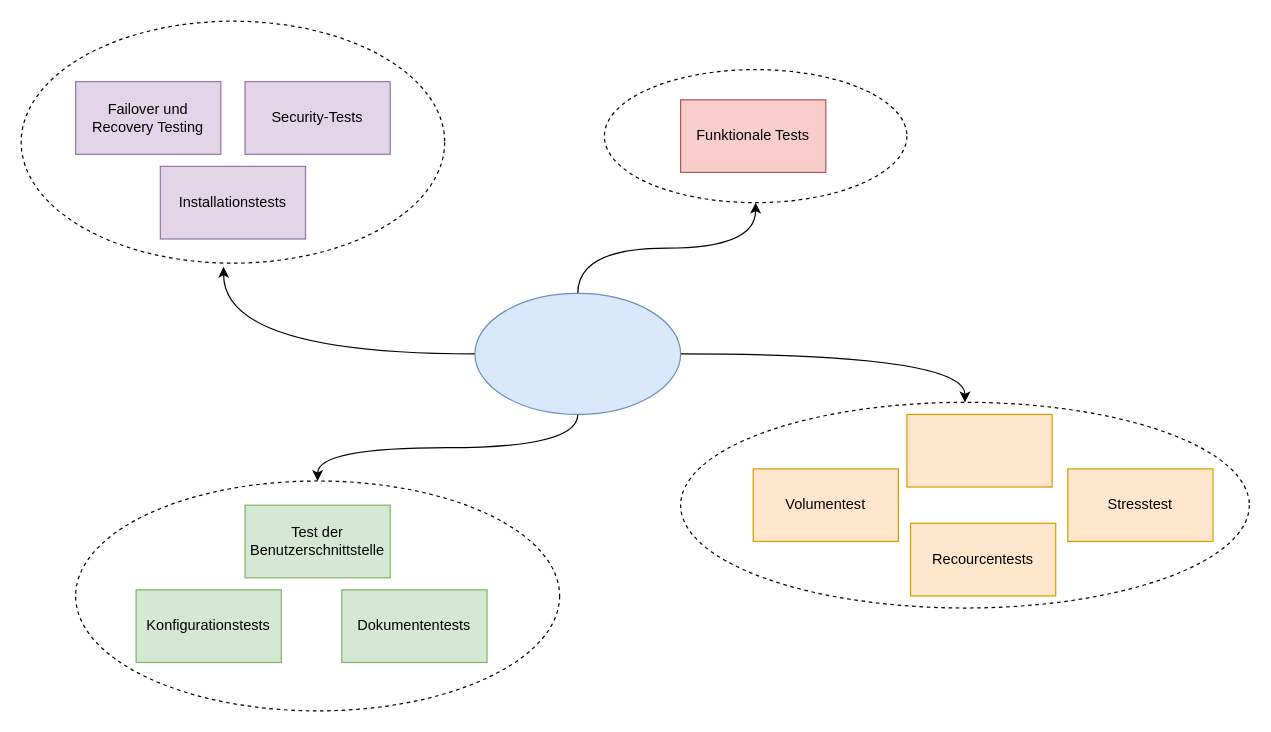
Some shapes in this 1271 by 732 pixel diagram are drawn without their labels. Here are the shapes that lost their labels. From the top down, the box of each, then its label:
(474, 292, 681, 414): Systemtest
(906, 413, 1052, 487): Performance und Lasttest
